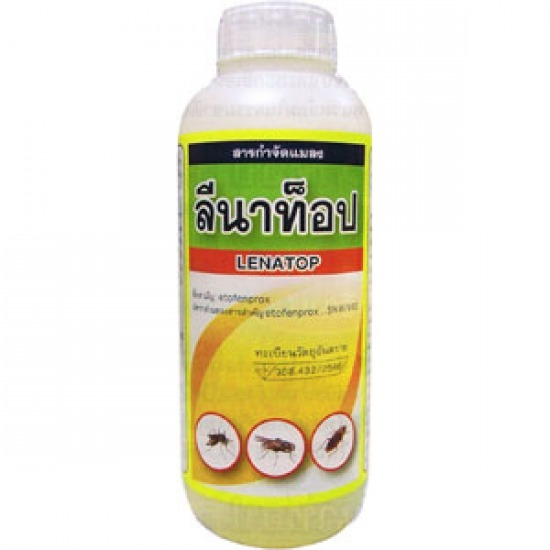Insecticide: (170, 1, 380, 550)
